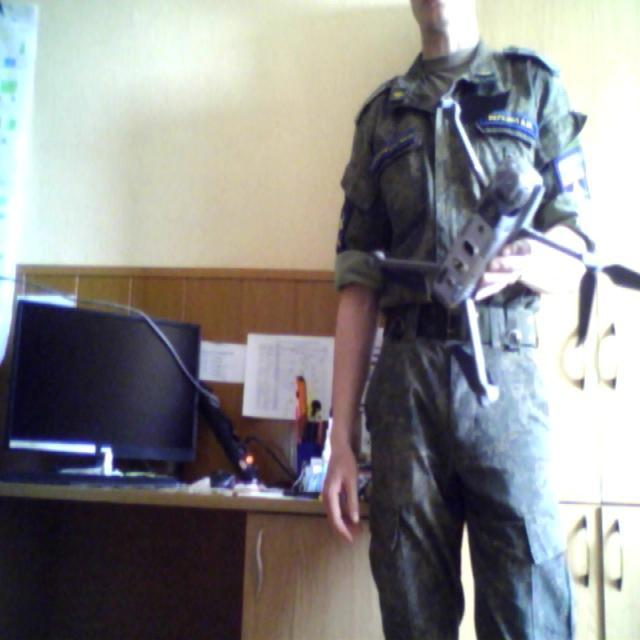drone: (363, 93, 640, 393)
